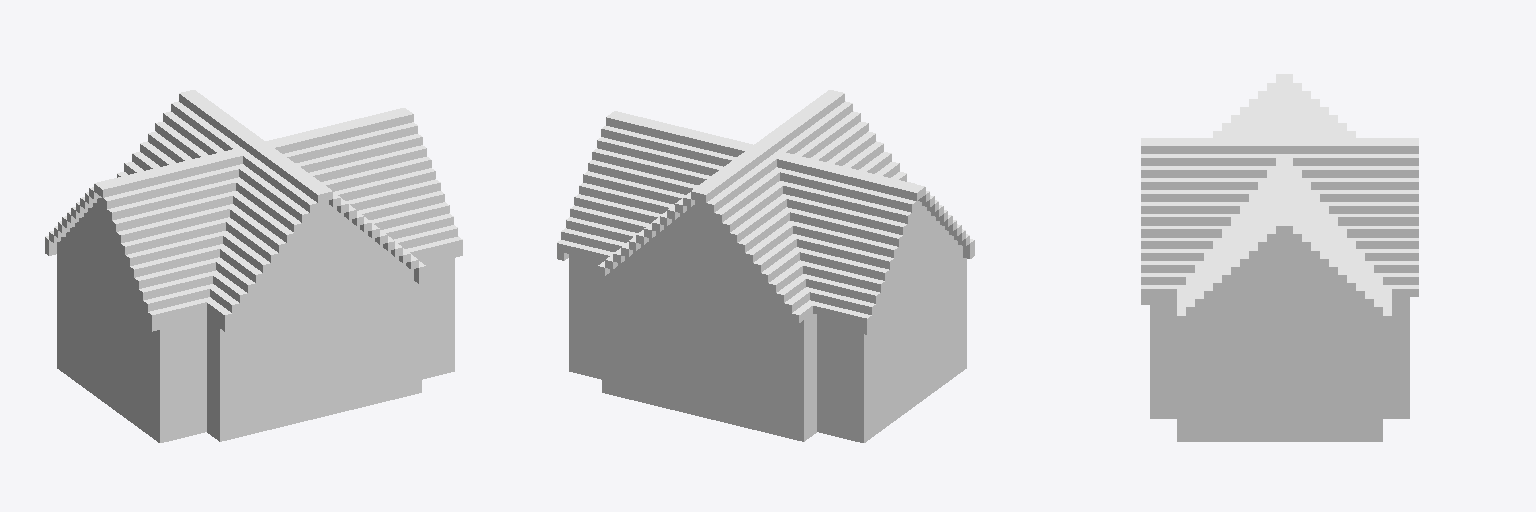
File: house2.obj
3 renders of one model, left to right at view 1: azimuth 30°, elevation 25°; view 2: azimuth 150°, elevation 25°; view 3: azimuth 270°, elevation 25°, orthographic.
Parts seen in each view (by area): view 1: object 1; view 2: object 1; view 3: object 1.
Part boxes in pixels (x1,y1,x2,y2): object 1: (45, 90, 462, 442); object 1: (557, 90, 974, 442); object 1: (1141, 74, 1418, 441).
Bounding box in the file's own units: 4 × 2.8 × 3.1.